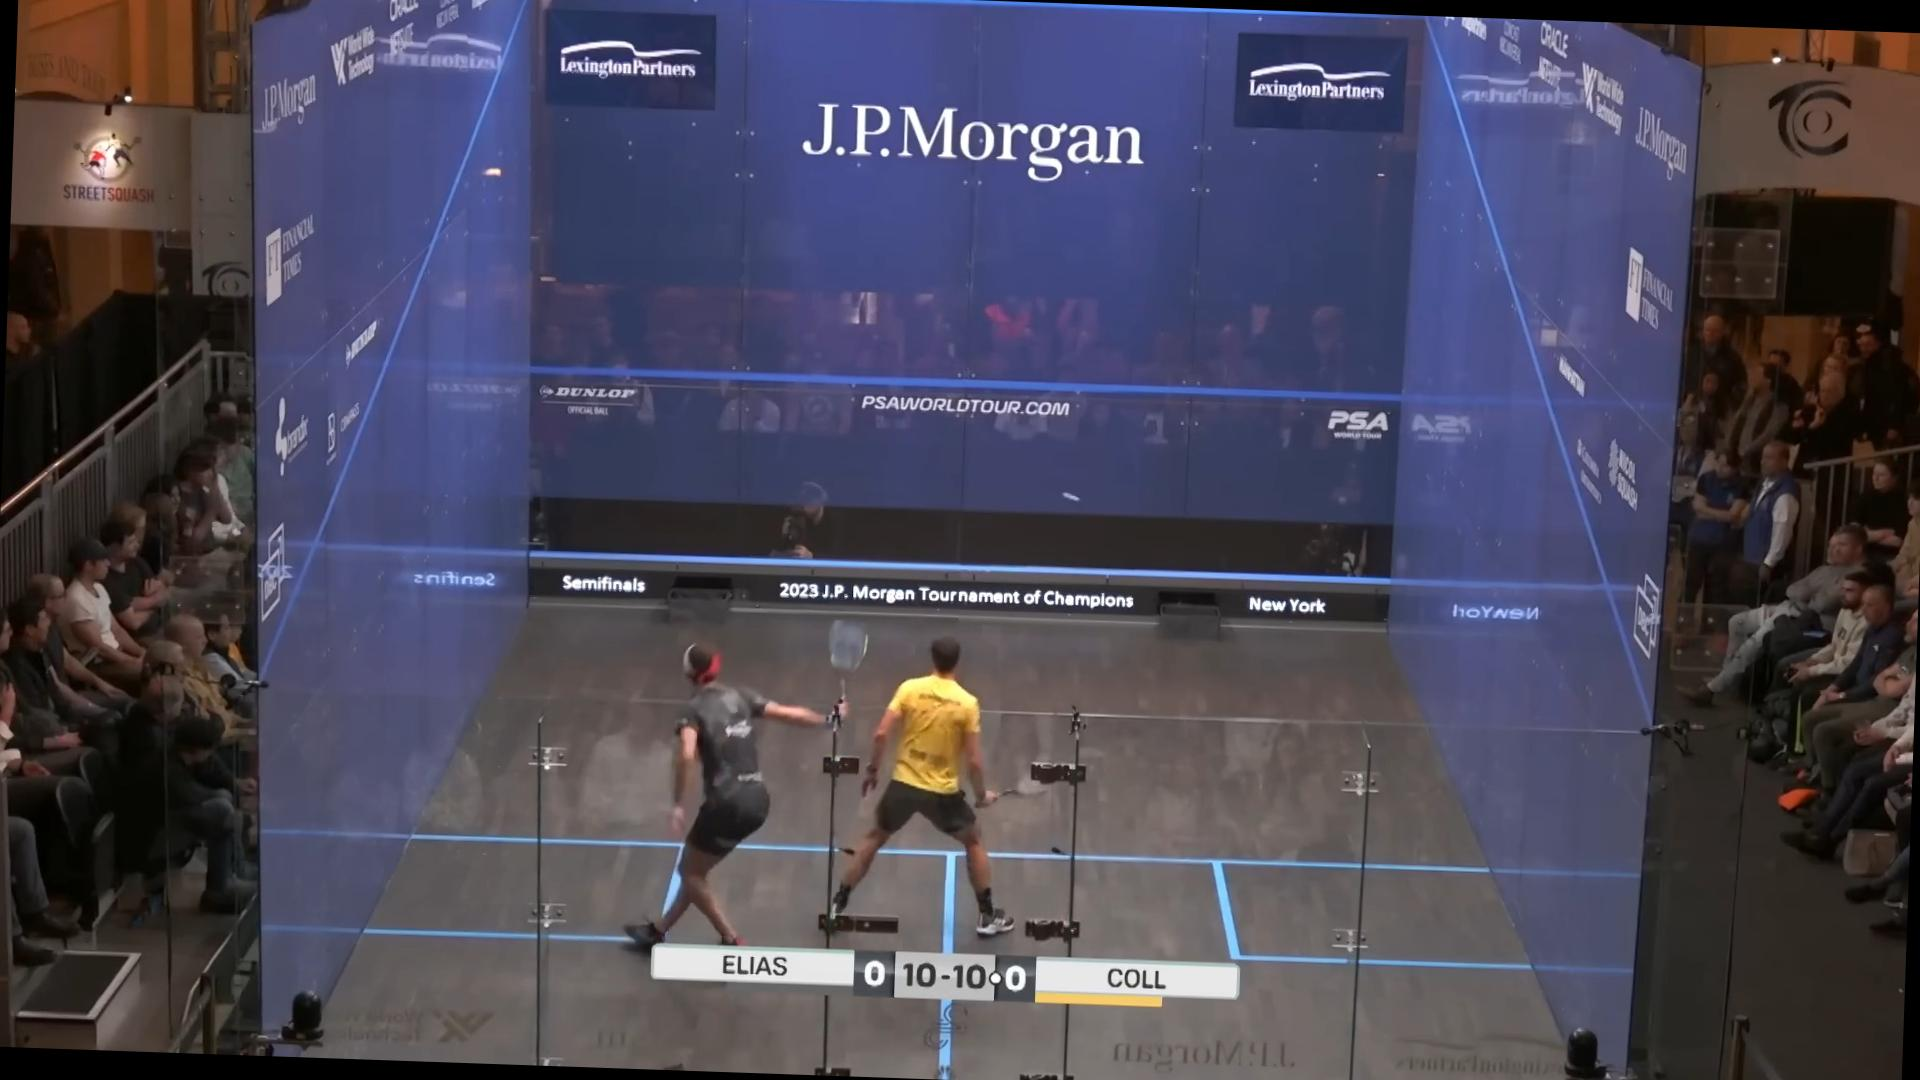Racket: (814, 605, 872, 719), (986, 764, 1056, 811)
